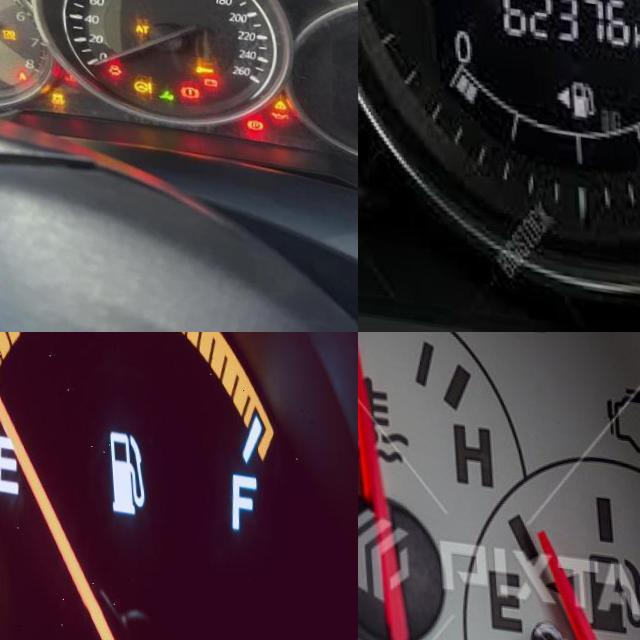Electronic Power Steering: (128, 72, 148, 88)
High Engine Coolant Temperature: (59, 68, 72, 77)
Seat Belt: (13, 67, 23, 78)
